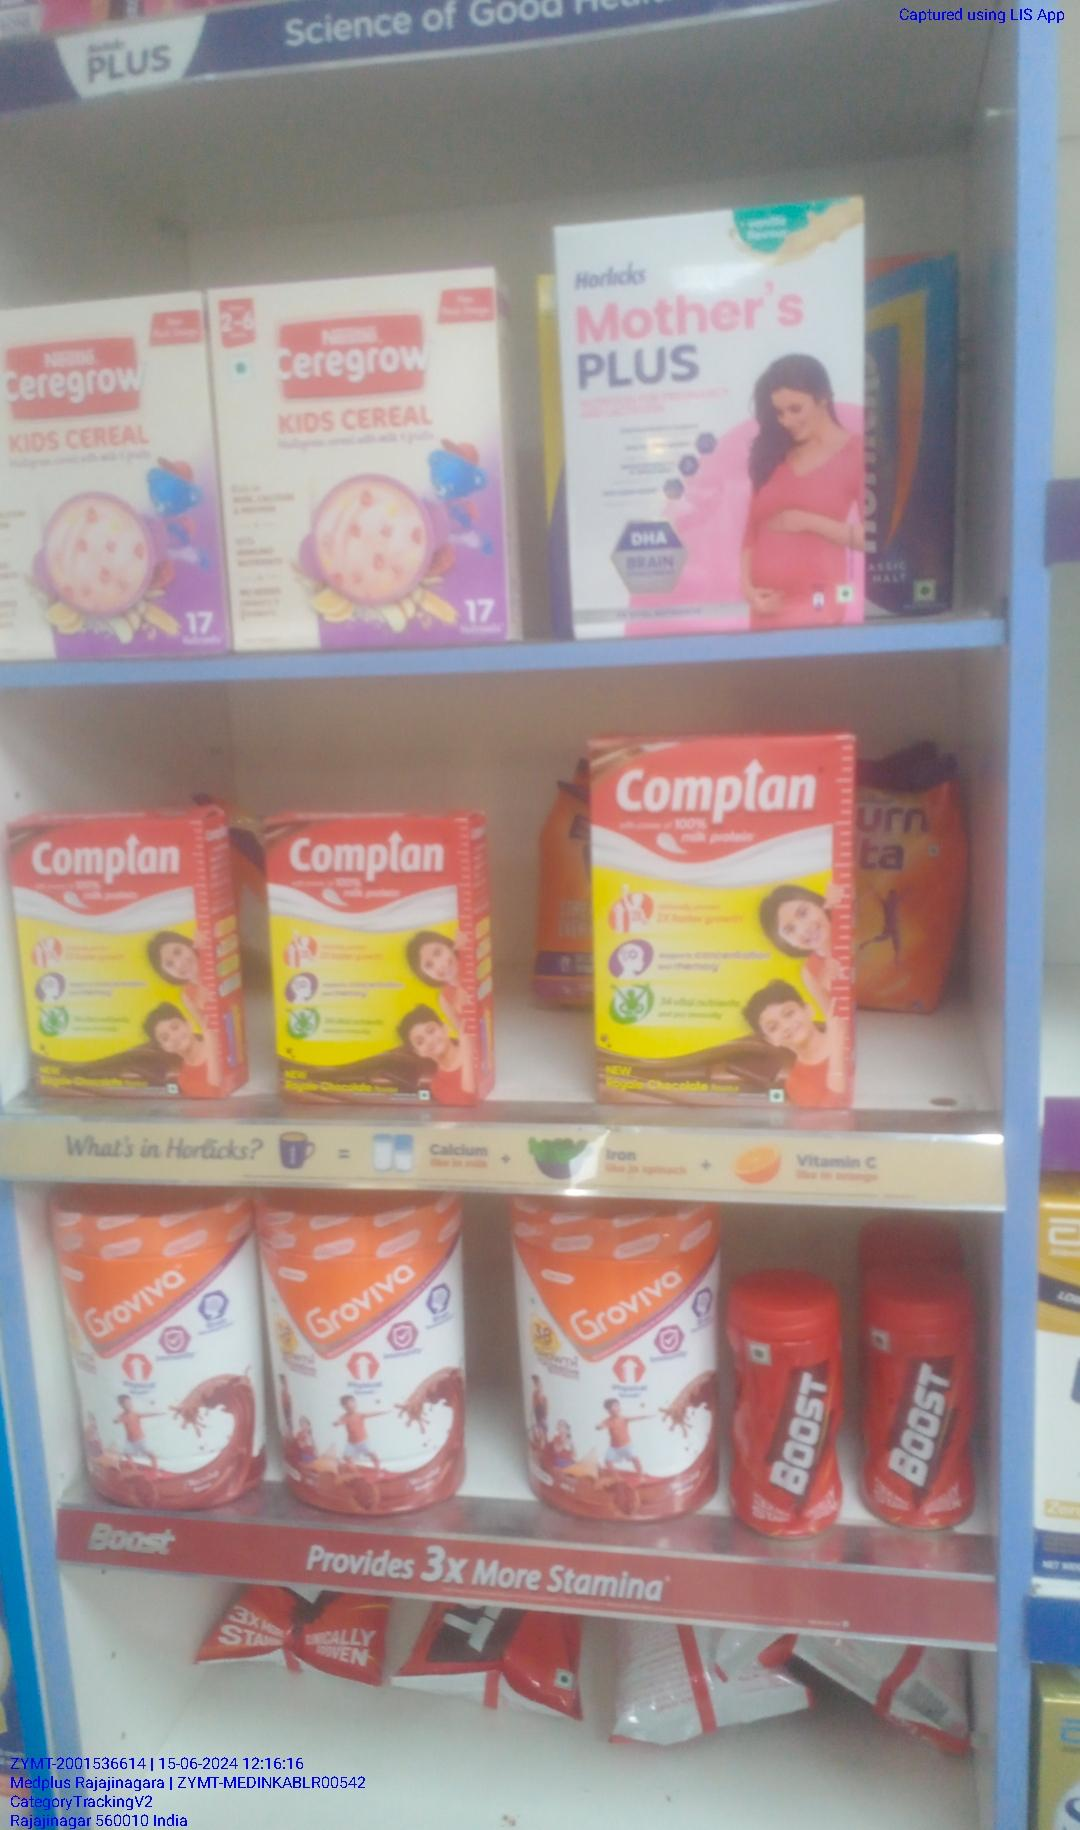COMPLAN_CHOCOLATE_200_GMS_PACK: (267, 819, 474, 1104), (12, 822, 213, 1091)
COMPLAN_CHOCOLATE_500_GMS_PACK: (590, 736, 847, 1112)
